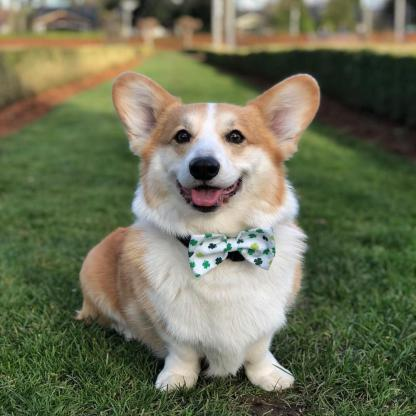Korgi: (78, 70, 322, 395)
